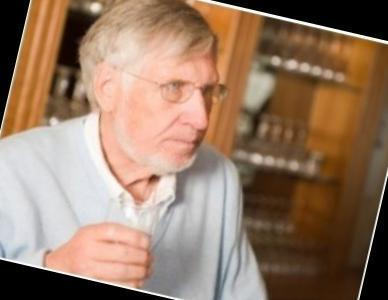Sober: (122, 55, 217, 166)
